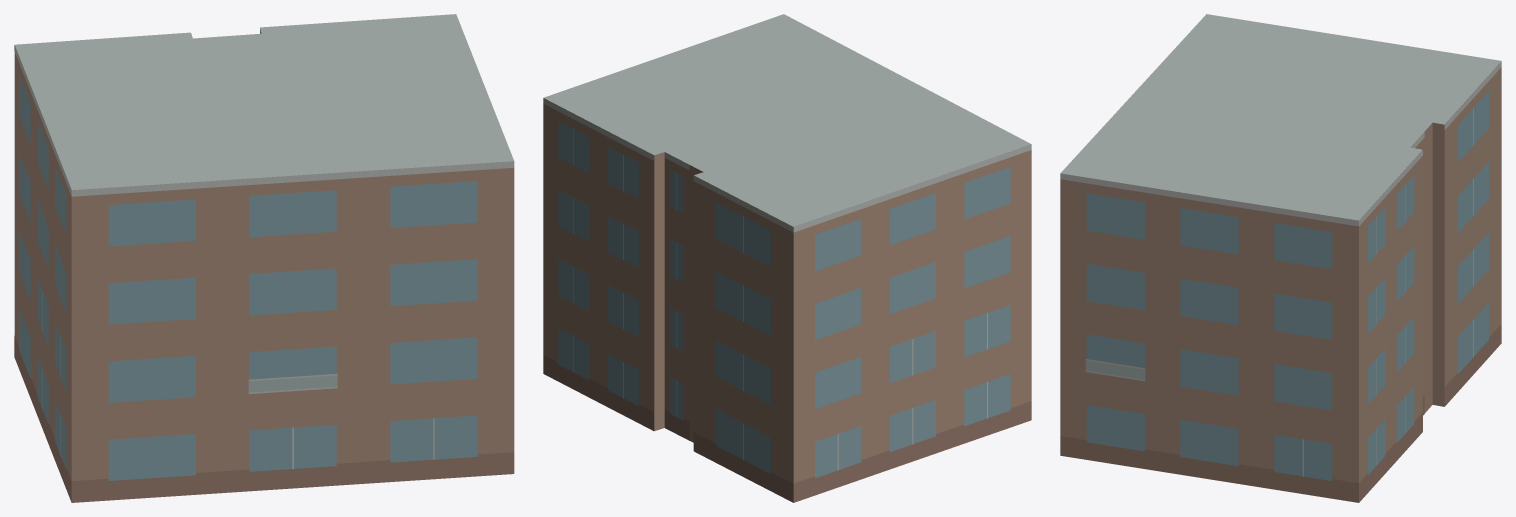
Rendered from survey-upis-33005977.glb.
3 renders of one model, left to right at view 1: azimuth 30°, elevation 25°; view 2: azimuth 150°, elevation 25°; view 3: azimuth 270°, elevation 25°, orthographic. The views are drawn at different scales.
Parts seen in each view (by area): view 1: survey-upis-33005977.tmp; view 2: survey-upis-33005977.tmp; view 3: survey-upis-33005977.tmp.
Boxes of the visible parts, bbox=[...] form: survey-upis-33005977.tmp: bbox=[14, 14, 514, 502]; survey-upis-33005977.tmp: bbox=[543, 14, 1031, 502]; survey-upis-33005977.tmp: bbox=[1060, 14, 1501, 502].
Size of the model in its own units: 18.45 by 11.75 by 16.66.
